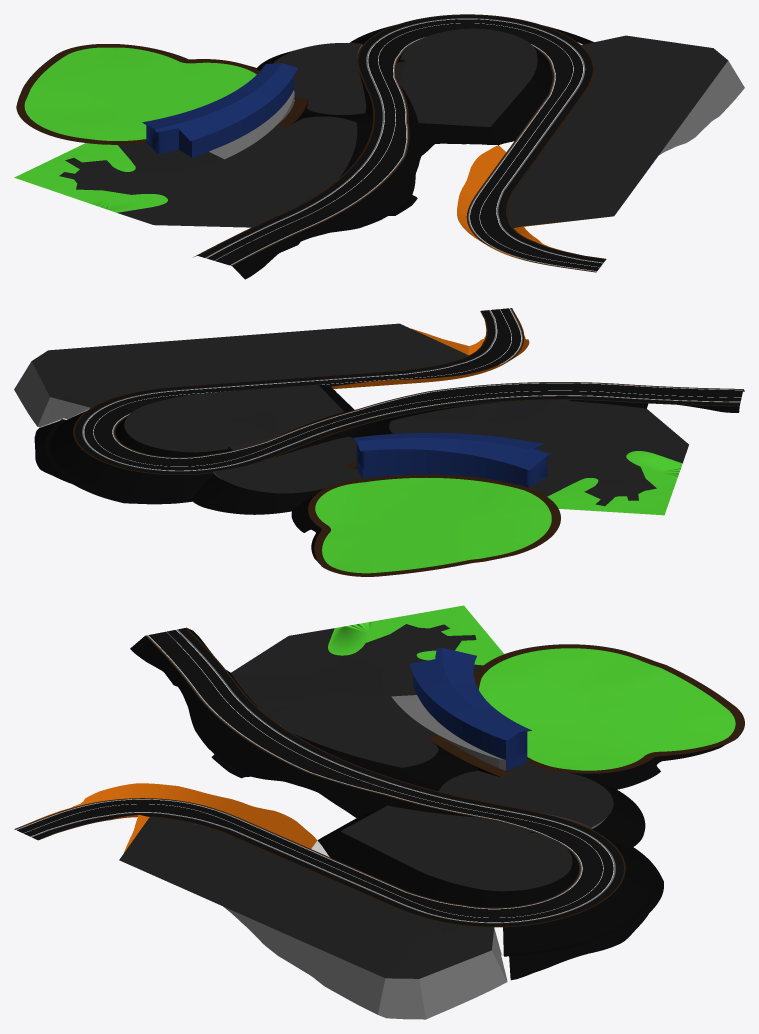
File: 追加モデル_計画.FBX
The picture shows the model from 3 angles, top to bottom: view 1: azimuth 30°, elevation 25°; view 2: azimuth 150°, elevation 25°; view 3: azimuth 270°, elevation 25°; orthographic projection. The views are drawn at different scales.
Parts seen in each view (by area): view 1: 駐車場, アクセス道路, 中庭, 盛土, 002躯体, 擁壁, 遊歩道, マーキング, 切土; view 2: 駐車場, 中庭, アクセス道路, 盛土, 002躯体, 遊歩道, 擁壁, マーキング, 切土; view 3: 駐車場, 盛土, 中庭, アクセス道路, 擁壁, 遊歩道, 002躯体, 切土, マーキング.
Boxes of the visible parts, x1,y1,x2,y2 form: 駐車場: (59,28,727,228); アクセス道路: (199,15,605,271); 中庭: (14,47,256,212); 盛土: (177,24,593,279); 002躯体: (142,63,297,157); 擁壁: (205,18,744,271); 遊歩道: (16,14,606,272); マーキング: (206,19,602,271); 切土: (457,145,592,268); 駐車場: (31,323,688,506); 中庭: (315,451,682,573); アクセス道路: (74,308,743,474); 盛土: (34,384,744,562); 002躯体: (352,433,551,487); 遊歩道: (73,308,743,576); 擁壁: (14,308,742,480); マーキング: (83,308,742,470); 切土: (331,314,529,388); 駐車場: (119,624,613,978); 盛土: (130,628,728,980); 中庭: (328,605,735,770); アクセス道路: (17,628,623,926); 擁壁: (15,629,615,1019); 遊歩道: (14,627,744,927); 002躯体: (409,647,531,770); 切土: (27,783,317,852); マーキング: (16,630,613,922).
Size of the model in its own units: 247 by 25.69 by 212.
